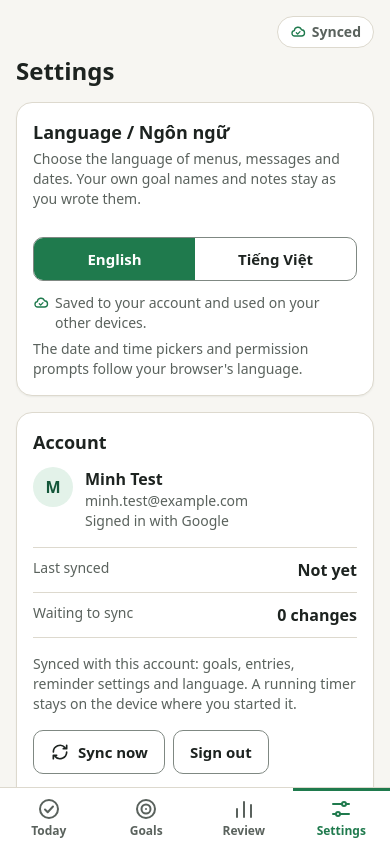
Test: Settings — signed-in copy (M7-AC15, DESIGN S7) › Sync now while the cloud is unreachable → A8 Alert + next retry, indicator error with Retry, no toast; Retry after recovery → synced
The image size is (390, 844).
Click the button with test id "sync-now" at (99, 752), box [33,730,165,774]
(page scrolled)
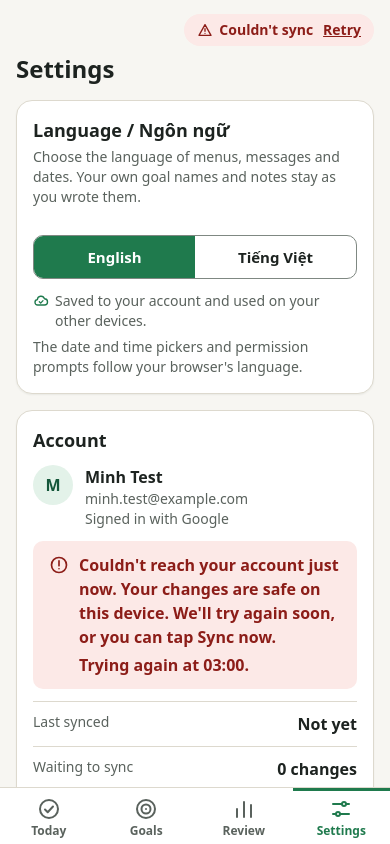
Now the message with test id "sync-error" shows "Couldn't reach your account just now. Your changes are safe on this device. We'll try again soon, or you can tap Sync now.", box [79,554,339,648]
Now the text with test id "next-retry" reads "Trying again at 03:00.", box [79,654,249,676]
Click the button with aria-label "Retry sync" at (340, 30), box [319,20,361,40]
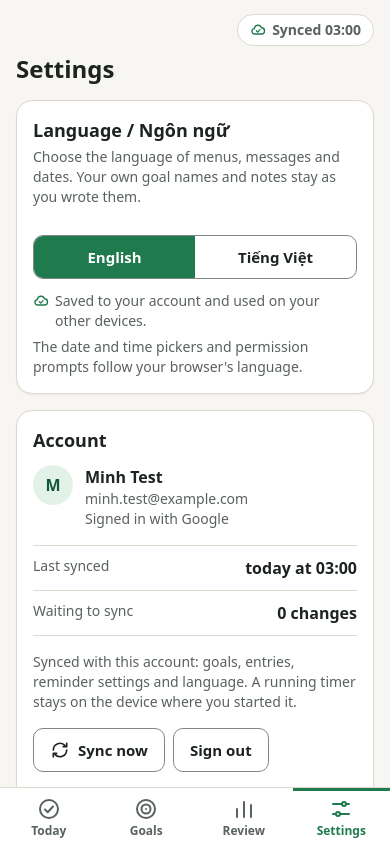
Now the message with test id "sync-error" is gone
